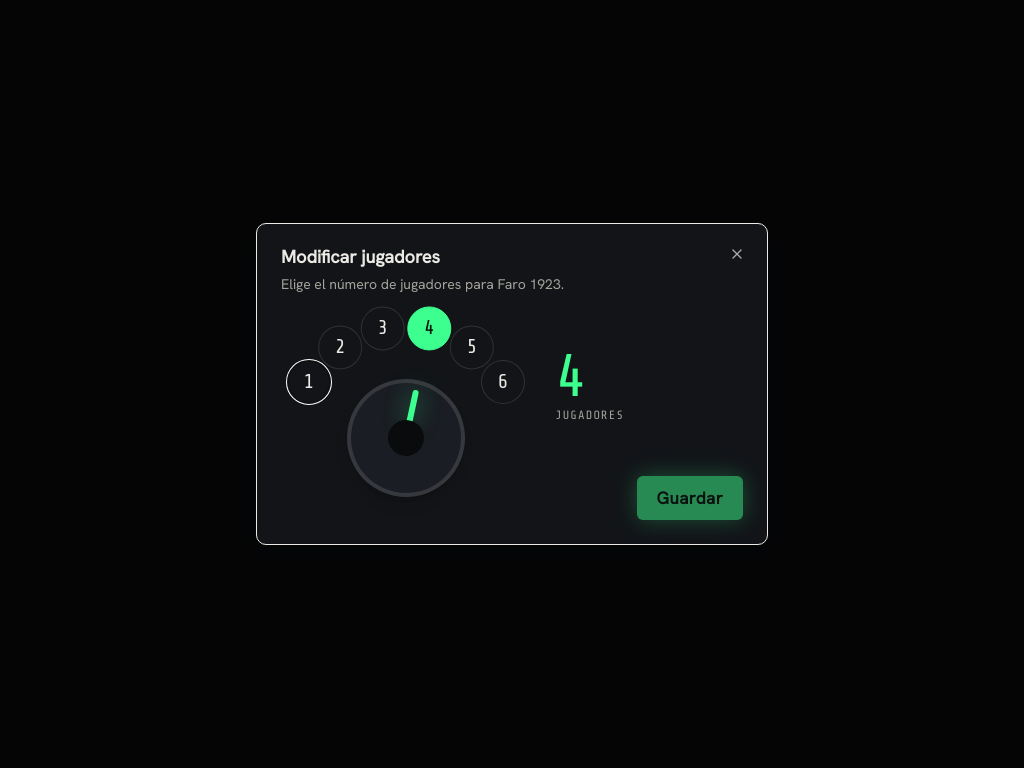
Scenario: ModifyPlayersDialog › shows the too-late message and stays open when the API refuses (24h rule)
The width and height of the screenshot is (1024, 768).
Click the button "5" at (472, 347), box [450, 325, 494, 369]
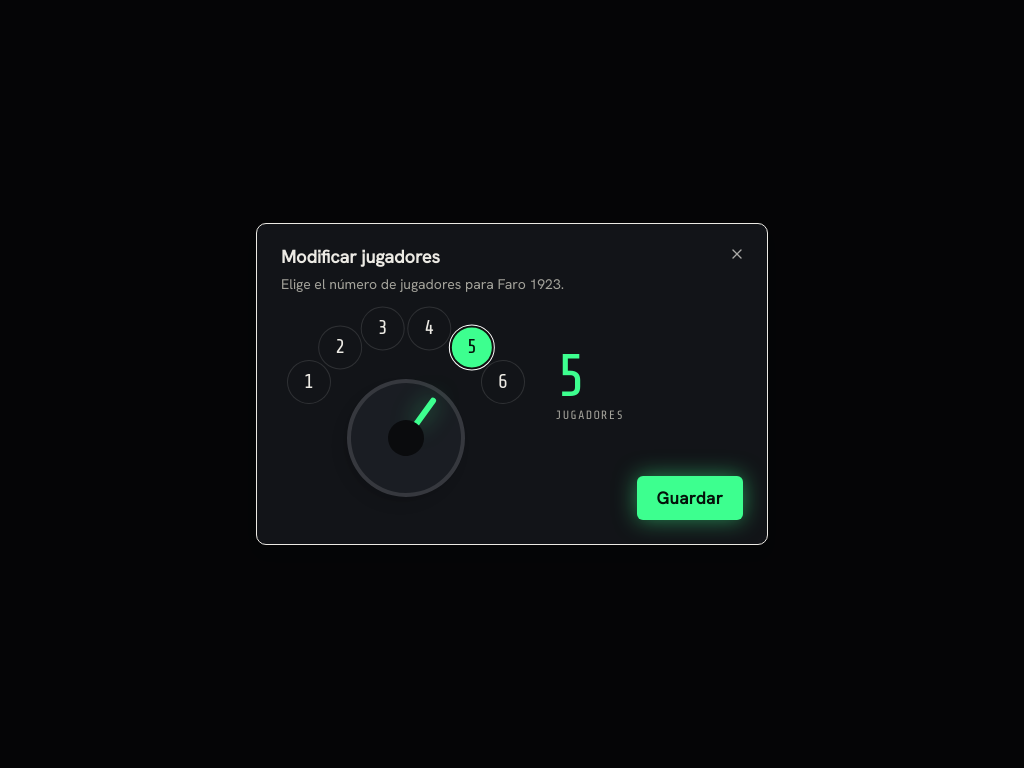
Click the button "Guardar" at (690, 498), box [637, 476, 743, 520]
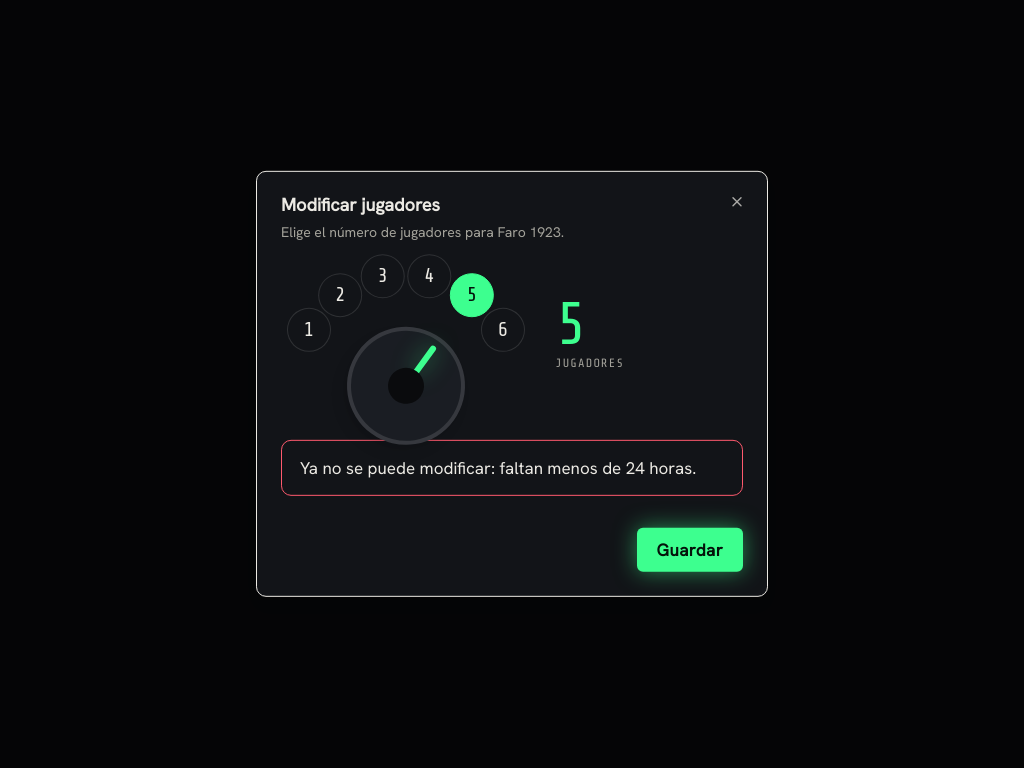
Expected: the message reads "Ya no se puede modificar: faltan menos de 24 horas.", [300, 457, 696, 479]
